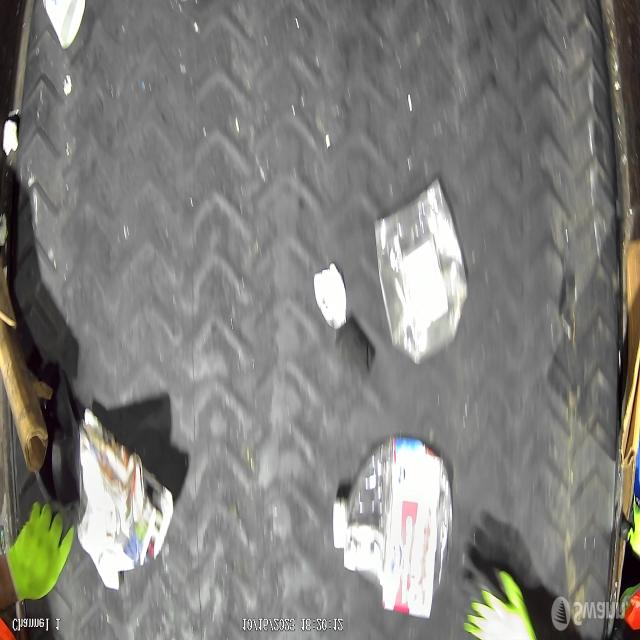plastic_bottle: (332, 441, 452, 587)
